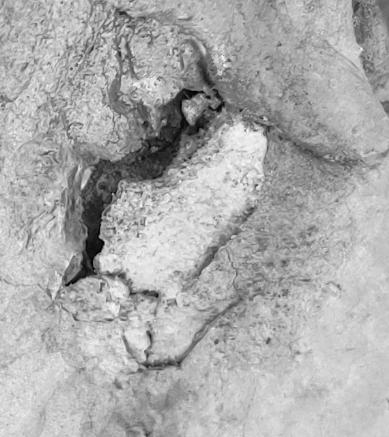crack: (0, 1, 389, 437)
